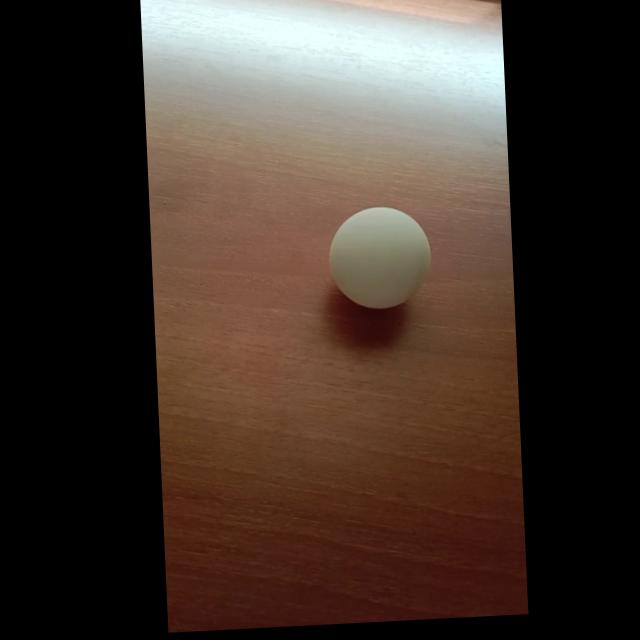white ball: (326, 202, 433, 312)
